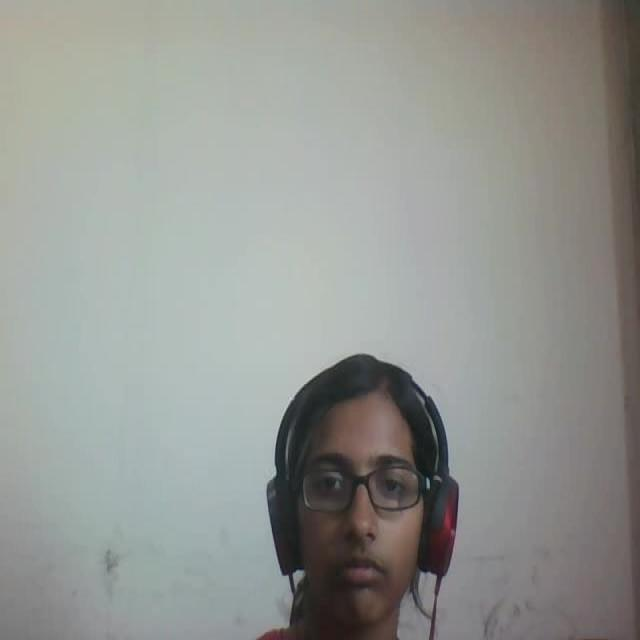Engaged: (244, 334, 473, 640)
